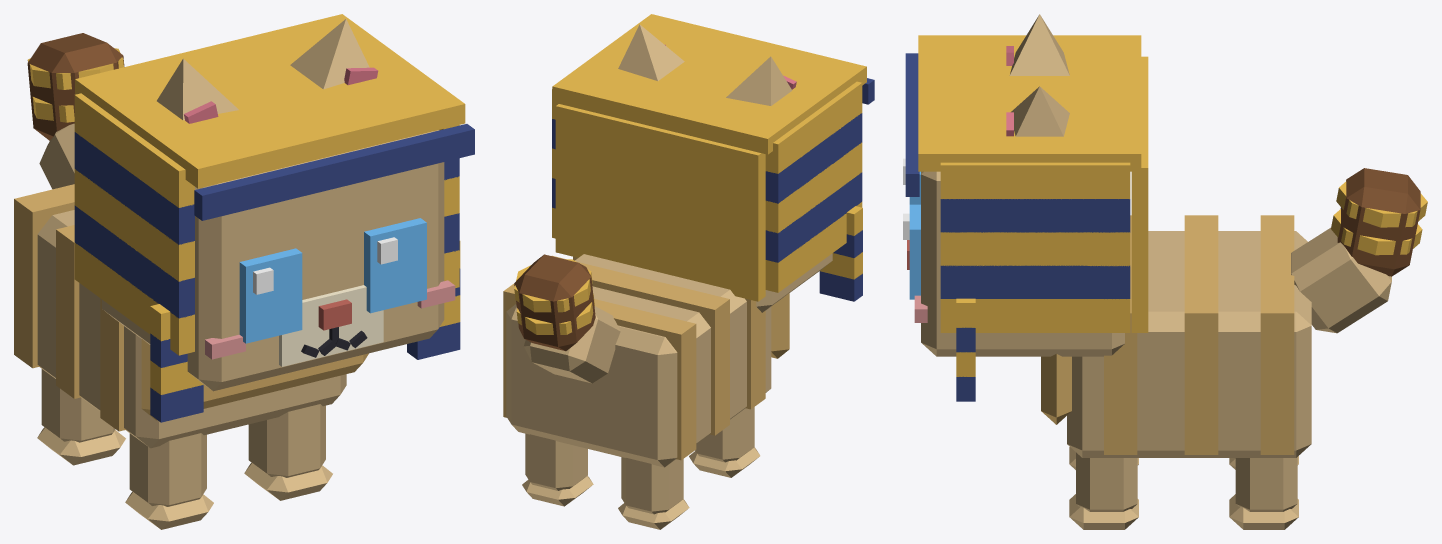
Rendered from CatCafe_Cat_Sphinx.glb.
3 renders of one model, left to right at view 1: azimuth 30°, elevation 25°; view 2: azimuth 150°, elevation 25°; view 3: azimuth 270°, elevation 25°, orthographic. The views are drawn at different scales.
Visible parts, largest first — view 1: CatCafe_Cat_Sphinx_Prop, CatCafe_Cat_Sphinx_Head, CatCafe_Cat_Sphinx_Body, CatCafe_Cat_Sphinx_LegF2, CatCafe_Cat_Sphinx_LegF1, CatCafe_Cat_Sphinx_Tail, CatCafe_Cat_Sphinx_Eye2, CatCafe_Cat_Sphinx_Eye1, CatCafe_Cat_Sphinx_LegB2, CatCafe_Cat_Sphinx_EarL, CatCafe_Cat_Sphinx_EarR, CatCafe_Cat_Sphinx_Tail_Cuffs; view 2: CatCafe_Cat_Sphinx_Prop, CatCafe_Cat_Sphinx_Body, CatCafe_Cat_Sphinx_Tail, CatCafe_Cat_Sphinx_LegB2, CatCafe_Cat_Sphinx_LegB1, CatCafe_Cat_Sphinx_LegF2, CatCafe_Cat_Sphinx_EarL, CatCafe_Cat_Sphinx_Tail_Cuffs, CatCafe_Cat_Sphinx_EarR, CatCafe_Cat_Sphinx_Head; view 3: CatCafe_Cat_Sphinx_Prop, CatCafe_Cat_Sphinx_Body, CatCafe_Cat_Sphinx_Tail, CatCafe_Cat_Sphinx_Head, CatCafe_Cat_Sphinx_LegB1, CatCafe_Cat_Sphinx_LegF1, CatCafe_Cat_Sphinx_Tail_Cuffs, CatCafe_Cat_Sphinx_EarR, CatCafe_Cat_Sphinx_EarL, CatCafe_Cat_Sphinx_Eye1.
Part boxes in pixels (box(x1,y1,x2,y2)): CatCafe_Cat_Sphinx_Prop: box(74, 14, 474, 422); CatCafe_Cat_Sphinx_Head: box(102, 130, 455, 391); CatCafe_Cat_Sphinx_Body: box(14, 184, 368, 448); CatCafe_Cat_Sphinx_LegF2: box(125, 433, 213, 529); CatCafe_Cat_Sphinx_LegF1: box(244, 404, 332, 500); CatCafe_Cat_Sphinx_Tail: box(27, 33, 124, 189); CatCafe_Cat_Sphinx_Eye2: box(239, 248, 302, 343); CatCafe_Cat_Sphinx_Eye1: box(364, 218, 426, 313); CatCafe_Cat_Sphinx_LegB2: box(37, 369, 125, 465); CatCafe_Cat_Sphinx_EarL: box(290, 19, 378, 89); CatCafe_Cat_Sphinx_EarR: box(157, 58, 238, 123); CatCafe_Cat_Sphinx_Tail_Cuffs: box(27, 48, 123, 122); CatCafe_Cat_Sphinx_Prop: box(552, 14, 874, 301); CatCafe_Cat_Sphinx_Body: box(503, 254, 789, 467); CatCafe_Cat_Sphinx_Tail: box(514, 254, 620, 383); CatCafe_Cat_Sphinx_LegB2: box(618, 457, 689, 529); CatCafe_Cat_Sphinx_LegB1: box(522, 433, 593, 506); CatCafe_Cat_Sphinx_LegF2: box(689, 407, 760, 477); CatCafe_Cat_Sphinx_EarL: box(618, 24, 684, 80); CatCafe_Cat_Sphinx_Tail_Cuffs: box(514, 259, 594, 334); CatCafe_Cat_Sphinx_EarR: box(726, 56, 796, 105); CatCafe_Cat_Sphinx_Head: box(756, 253, 832, 312); CatCafe_Cat_Sphinx_Prop: box(905, 35, 1148, 401); CatCafe_Cat_Sphinx_Body: box(1041, 215, 1311, 457); CatCafe_Cat_Sphinx_Tail: box(1291, 168, 1420, 333); CatCafe_Cat_Sphinx_Head: box(907, 171, 1124, 356); CatCafe_Cat_Sphinx_LegB1: box(1229, 457, 1298, 529); CatCafe_Cat_Sphinx_LegF1: box(1069, 452, 1138, 529); CatCafe_Cat_Sphinx_Tail_Cuffs: box(1331, 181, 1427, 255); CatCafe_Cat_Sphinx_EarR: box(1006, 14, 1069, 75); CatCafe_Cat_Sphinx_EarL: box(1006, 86, 1069, 136); CatCafe_Cat_Sphinx_Eye1: box(903, 204, 920, 299).
Size of the model in its own units: 1.58 by 2.47 by 2.65.
Materials: 1 (1 with a texture image).
